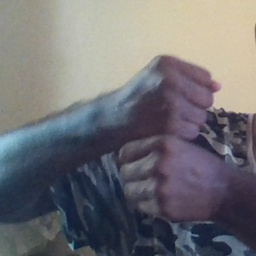G: (118, 52, 224, 228)
